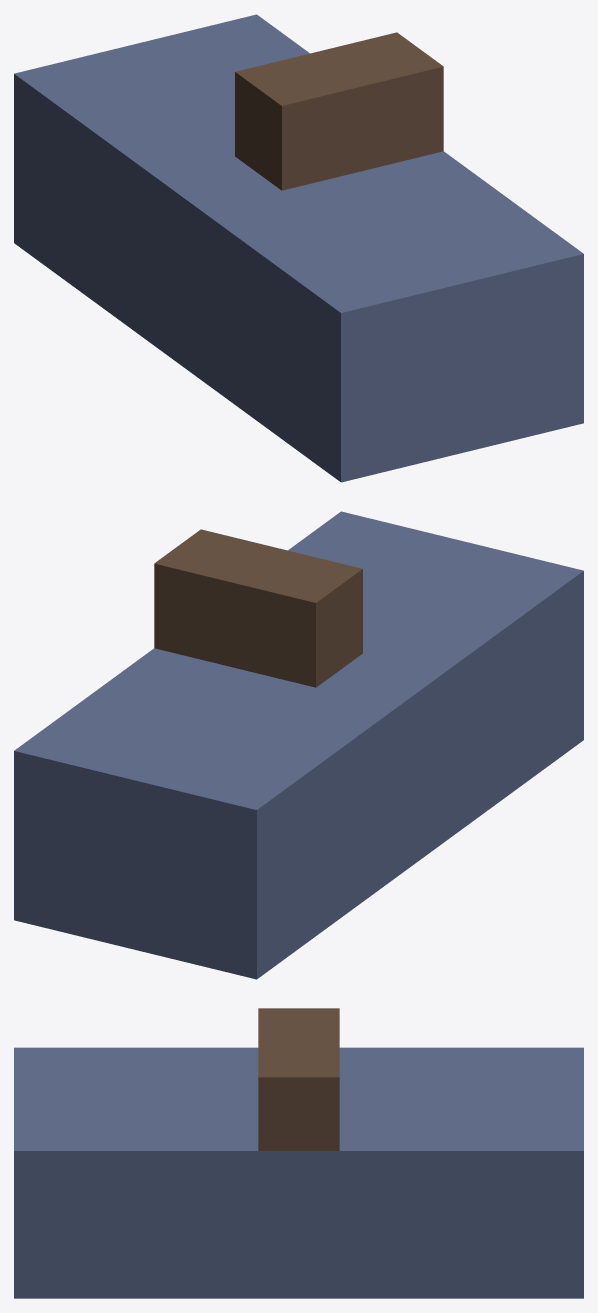
The model's file is cloth_rare_boot_foot_L_lod1.glb.
3 renders of one model, top to bottom at view 1: azimuth 30°, elevation 25°; view 2: azimuth 150°, elevation 25°; view 3: azimuth 270°, elevation 25°, orthographic. The views are drawn at different scales.
Parts seen in each view (by area): view 1: cloth_rare_boot_foot_L_lod1; view 2: cloth_rare_boot_foot_L_lod1; view 3: cloth_rare_boot_foot_L_lod1.
Boxes of the visible parts, bbox=[...] form: cloth_rare_boot_foot_L_lod1: bbox=[14, 14, 583, 482]; cloth_rare_boot_foot_L_lod1: bbox=[14, 511, 583, 979]; cloth_rare_boot_foot_L_lod1: bbox=[14, 1008, 583, 1298].
Size of the model in its own units: 0.144 by 0.144 by 0.336.
